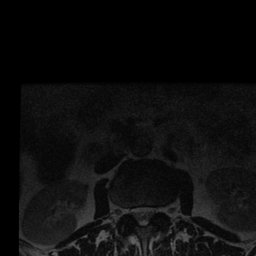CCS_normal: (138, 201, 146, 230)
LFS_stenosis: (155, 201, 163, 219)
LLS_normal: (147, 201, 155, 223)
RFS_stenosis: (122, 201, 130, 223)
RLS_normal: (131, 201, 138, 224)
